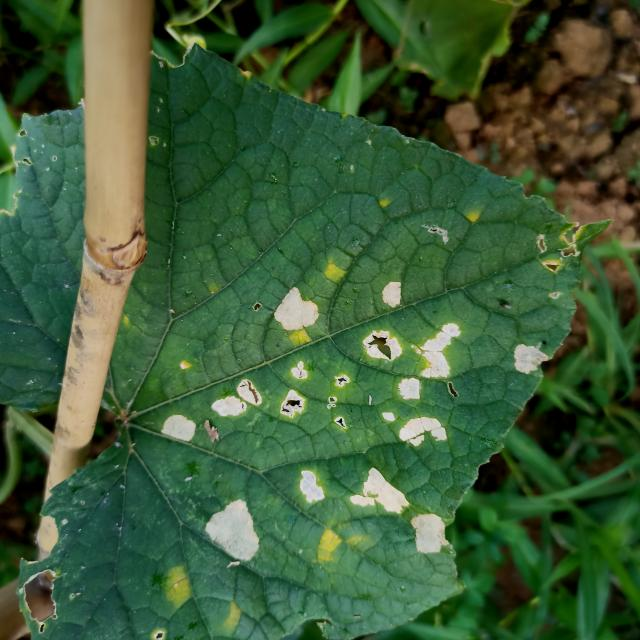disease_cucumber: (206, 277, 468, 451), (198, 491, 266, 569), (348, 462, 408, 516), (155, 554, 197, 609), (409, 510, 455, 558), (289, 459, 334, 506), (153, 406, 201, 449), (508, 338, 555, 375), (308, 528, 357, 563), (212, 596, 246, 636), (316, 253, 350, 289), (285, 323, 315, 353)
